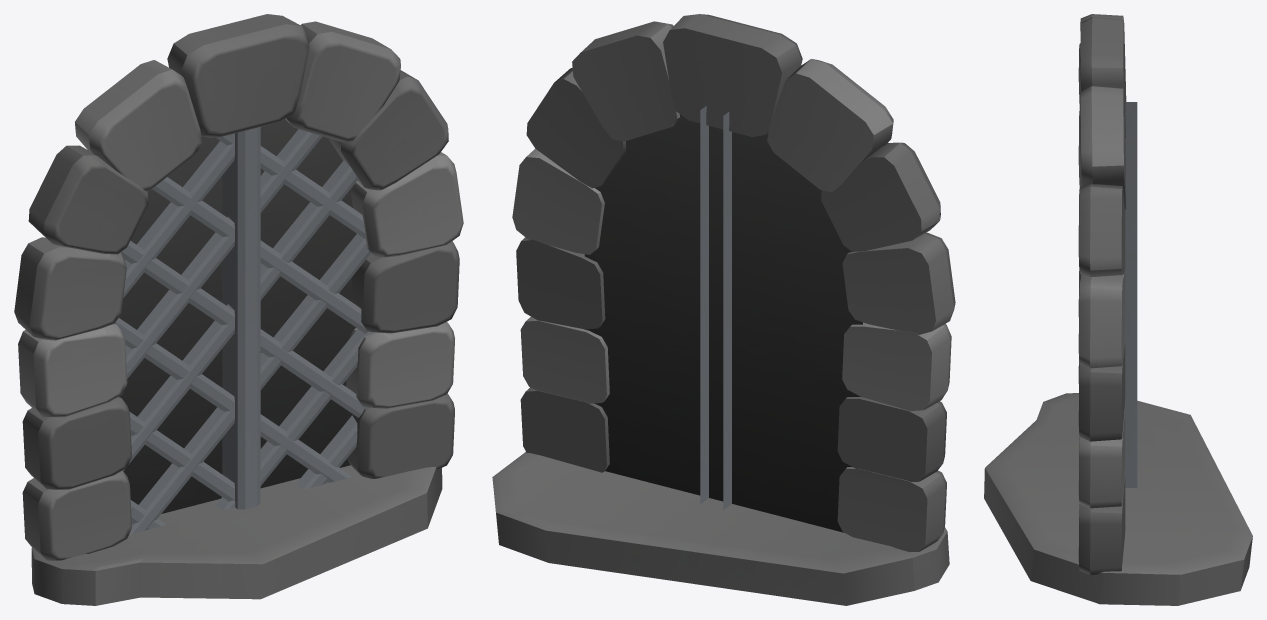
File: SRWindow.fbx
3 views of the same model, side by side, from view 1: azimuth 30°, elevation 25°; view 2: azimuth 150°, elevation 25°; view 3: azimuth 270°, elevation 25° (orthographic). The views are drawn at different scales.
Parts seen in each view (by area): view 1: Window; view 2: Window; view 3: Window.
Part boxes in pixels (box(x1,y1,x2,y2)): Window: box(14, 14, 463, 605); Window: box(492, 14, 955, 605); Window: box(984, 14, 1252, 605).
Size of the model in its own units: 1.24 by 1.41 by 0.7131.
